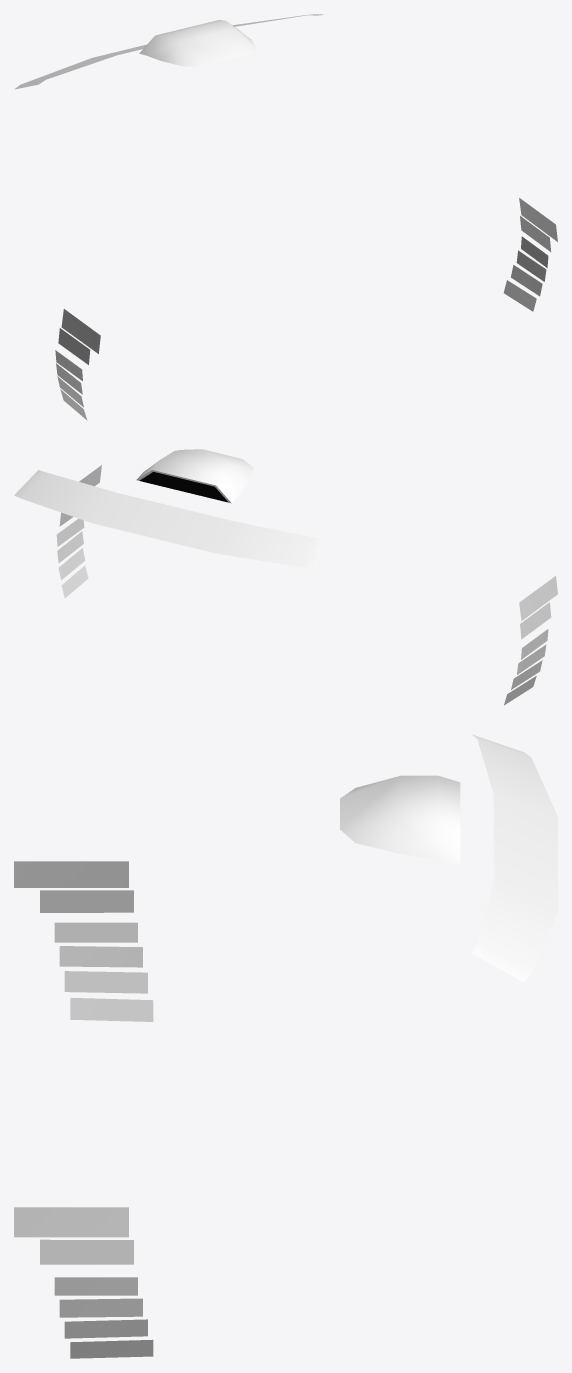
The picture shows the model from 3 angles, top to bottom: view 1: azimuth 30°, elevation 25°; view 2: azimuth 150°, elevation 25°; view 3: azimuth 270°, elevation 25°; orthographic projection. The views are drawn at different scales.
Parts seen in each view (by area): view 1: rf_a_u; view 2: rf_a_u; view 3: rf_a_u.
Part boxes in pixels (bbox=[...]): rf_a_u: bbox=[14, 14, 557, 420]; rf_a_u: bbox=[14, 449, 557, 705]; rf_a_u: bbox=[14, 734, 557, 1358].
Bounding box in the file's own units: 2.15 × 1.11 × 1.4.
3 materials, 3 textured.
